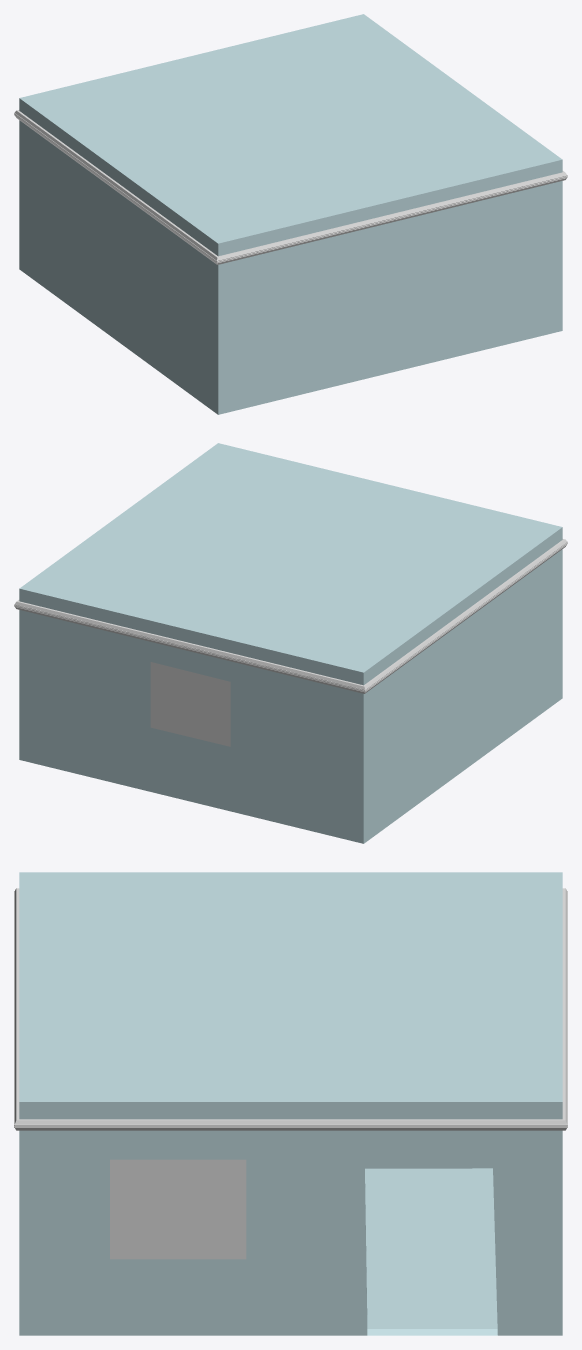
Rendered from Dom.fbx.
3 renders of one model, top to bottom at view 1: azimuth 30°, elevation 25°; view 2: azimuth 150°, elevation 25°; view 3: azimuth 270°, elevation 25°, orthographic. The views are drawn at different scales.
Parts seen in each view (by area): view 1: Cube; view 2: Cube; view 3: Cube.
Boxes of the visible parts, <box> form: Cube: <box>14,14,567,414</box>; Cube: <box>14,443,567,843</box>; Cube: <box>14,872,567,1335</box>.
Bounding box in the file's own units: 8.58 × 4 × 8.58.
